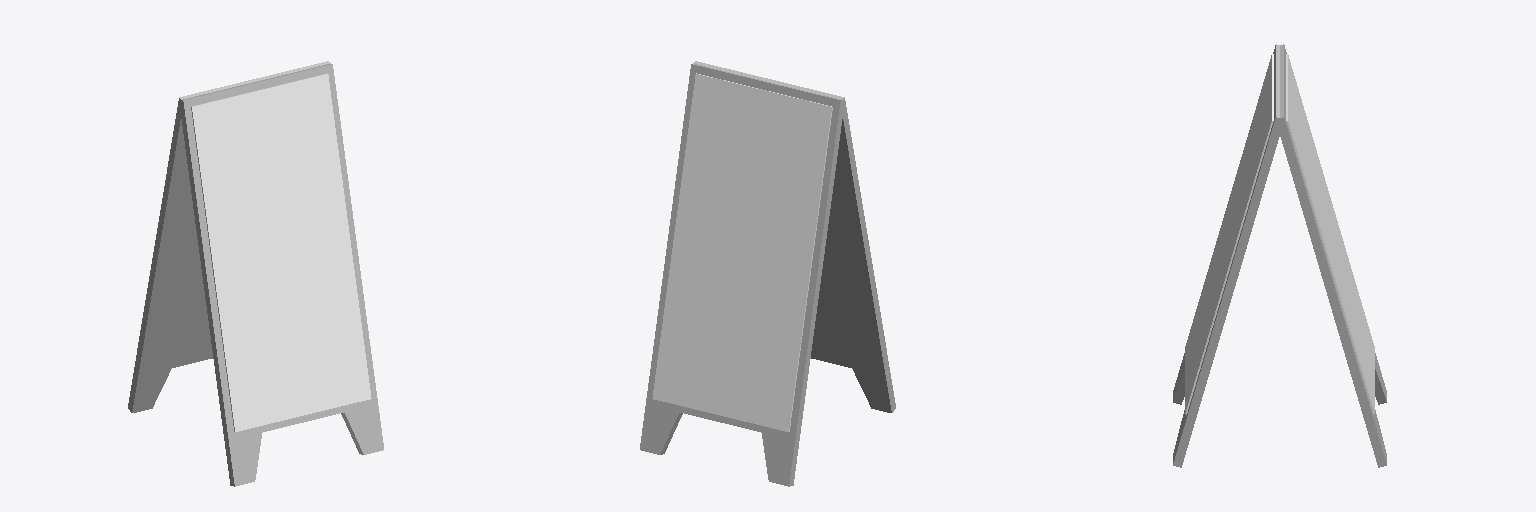
Rendered from banner_2side.obj.
The picture shows the model from 3 angles: view 1: azimuth 30°, elevation 25°; view 2: azimuth 150°, elevation 25°; view 3: azimuth 270°, elevation 25°; orthographic projection.
Visible parts, largest first — view 1: pCube1_Mesh.006; view 2: pCube1_Mesh.006; view 3: pCube1_Mesh.006.
Boxes of the visible parts, x1,y1,x2,y2 form: pCube1_Mesh.006: [128, 61, 383, 486]; pCube1_Mesh.006: [640, 61, 895, 486]; pCube1_Mesh.006: [1173, 44, 1386, 467].
Size of the model in its own units: 1.13 by 2.52 by 1.4.